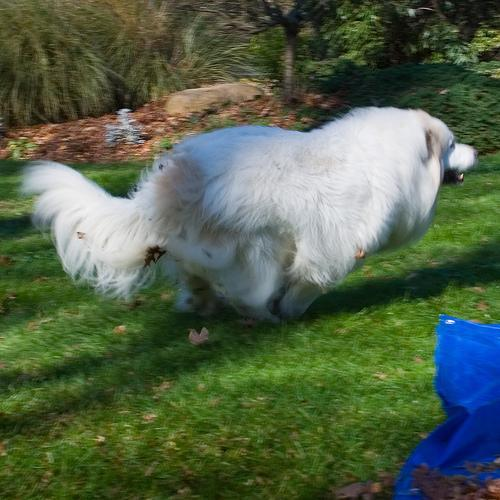Great_Pyrenees: (21, 106, 482, 327)
